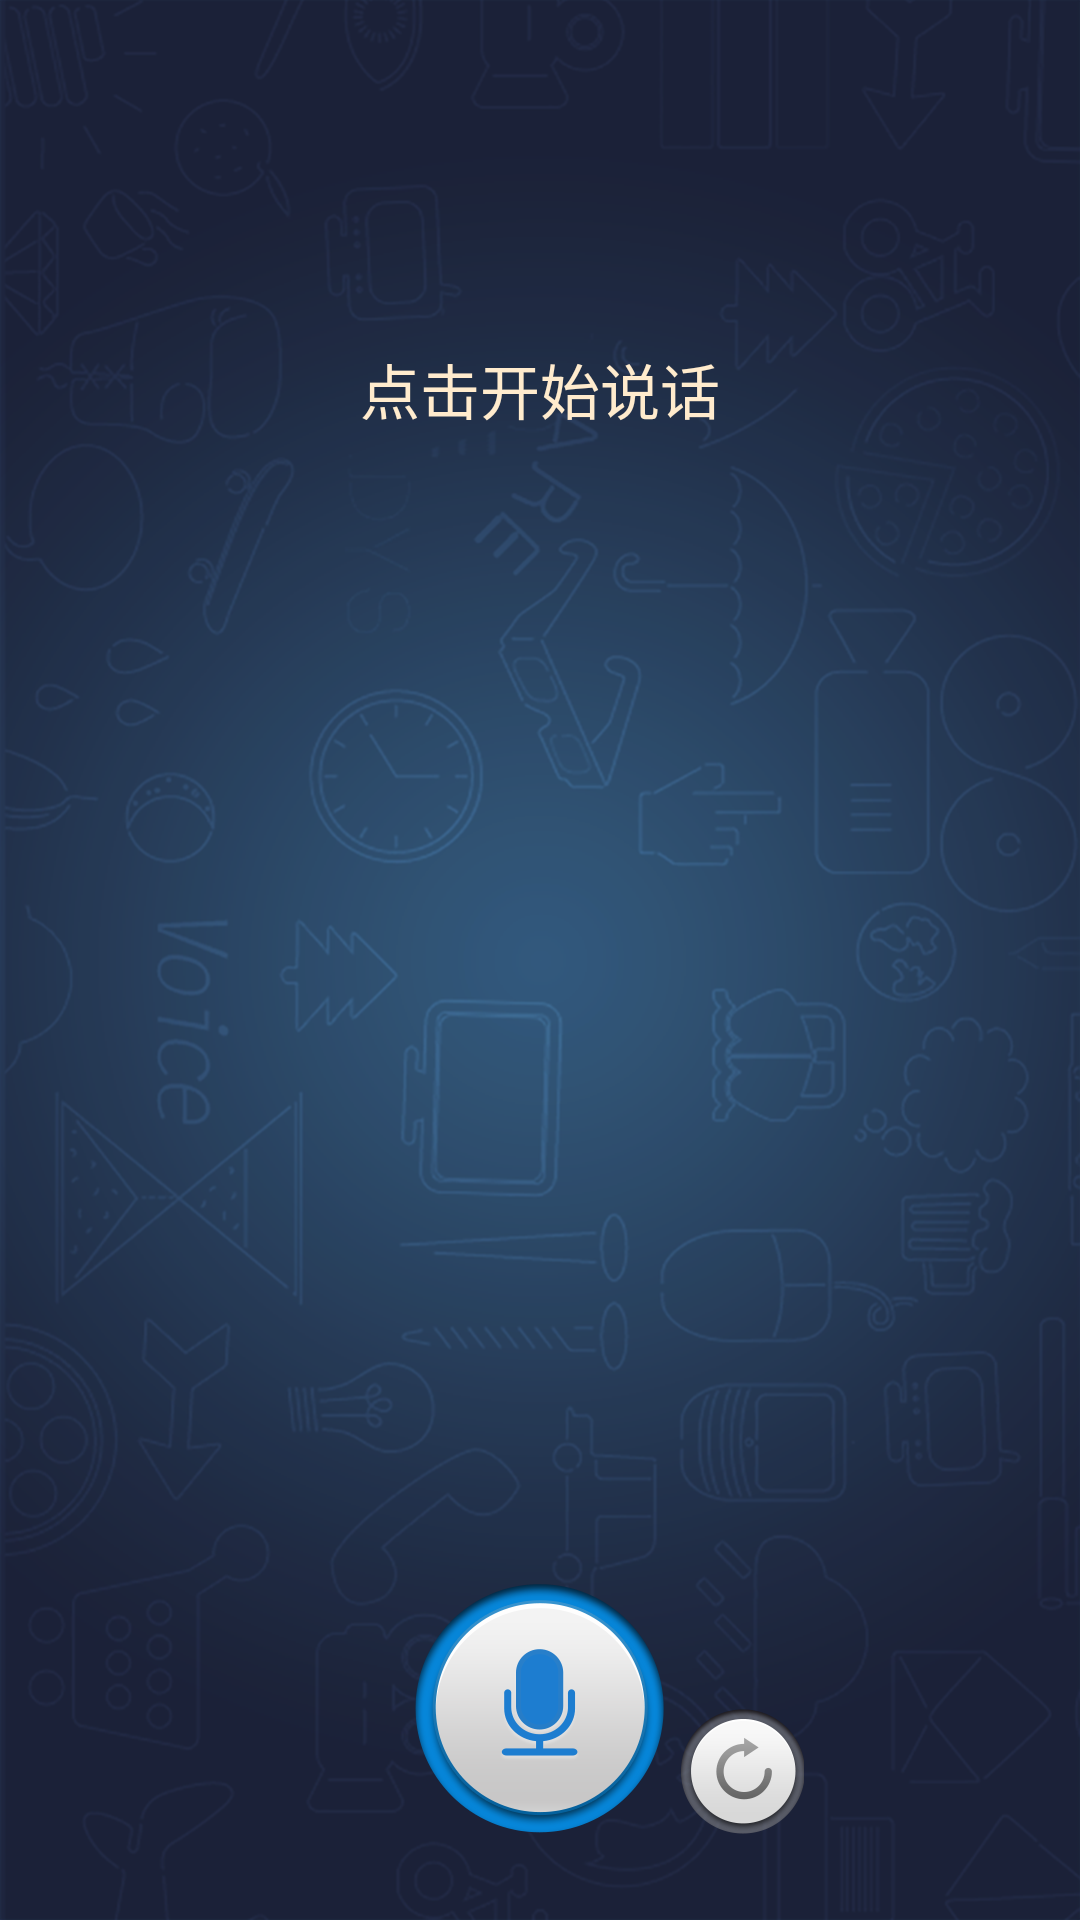

Screen size 1080 × 1920. Icon name, then its box in pixels as {"left": x1, "top": y1, "right": x2, "bottom": y2}:
recogstart: {"left": 415, "top": 1574, "right": 664, "bottom": 1833}
